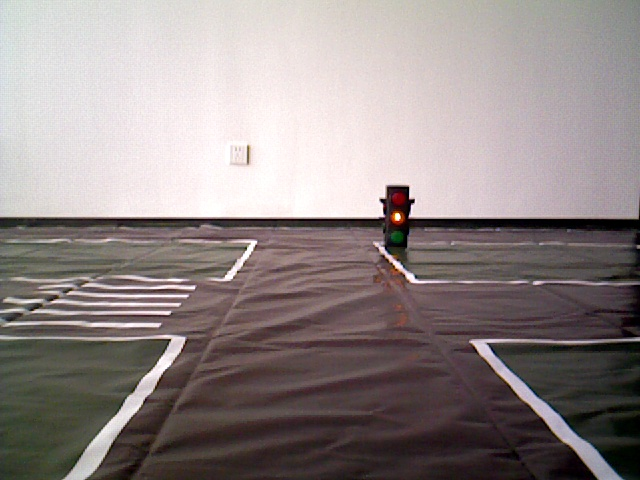yellow: (380, 182, 413, 247)
